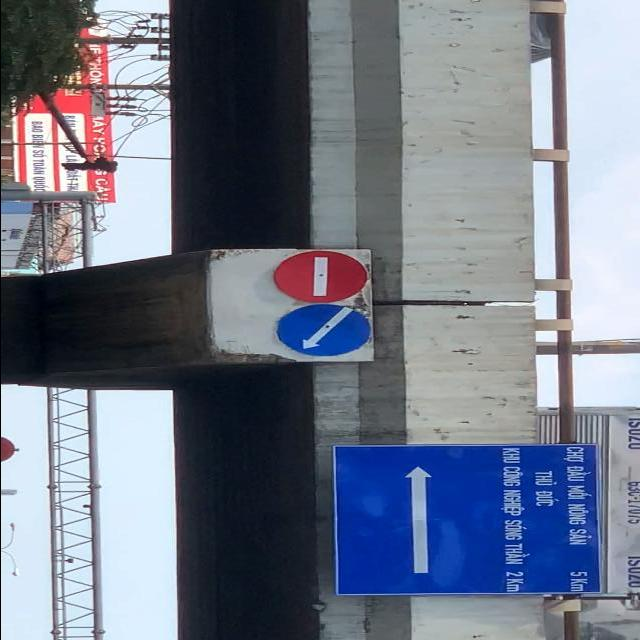P-102: (272, 252, 366, 302)
R-302a: (276, 305, 368, 355)
